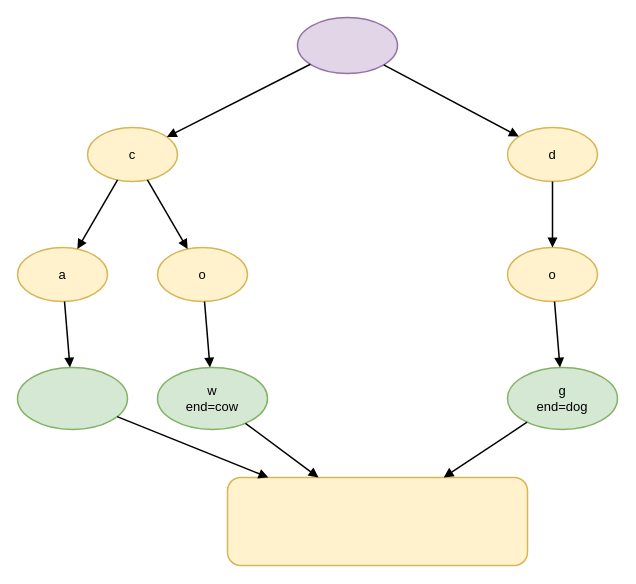
Some shapes in this 636 by 584 pixel diagram are drawn without their labels. Each missing label, with the box of its shape:
root: (296, 16, 398, 74)
t end=cat: (16, 366, 128, 430)
公共前缀共享路径 search 要求 end=true startsWith 只要求路径存在: (226, 476, 528, 566)
